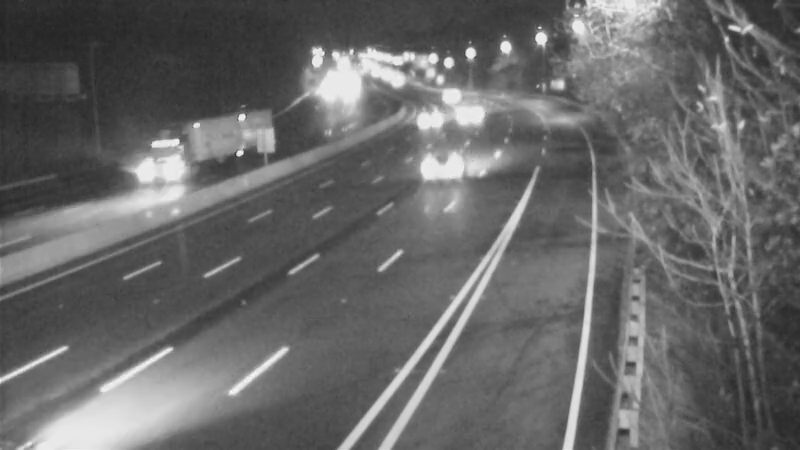vehicle: (411, 120, 491, 200), (117, 134, 197, 214), (431, 65, 481, 115), (439, 83, 489, 133), (398, 91, 448, 141)
